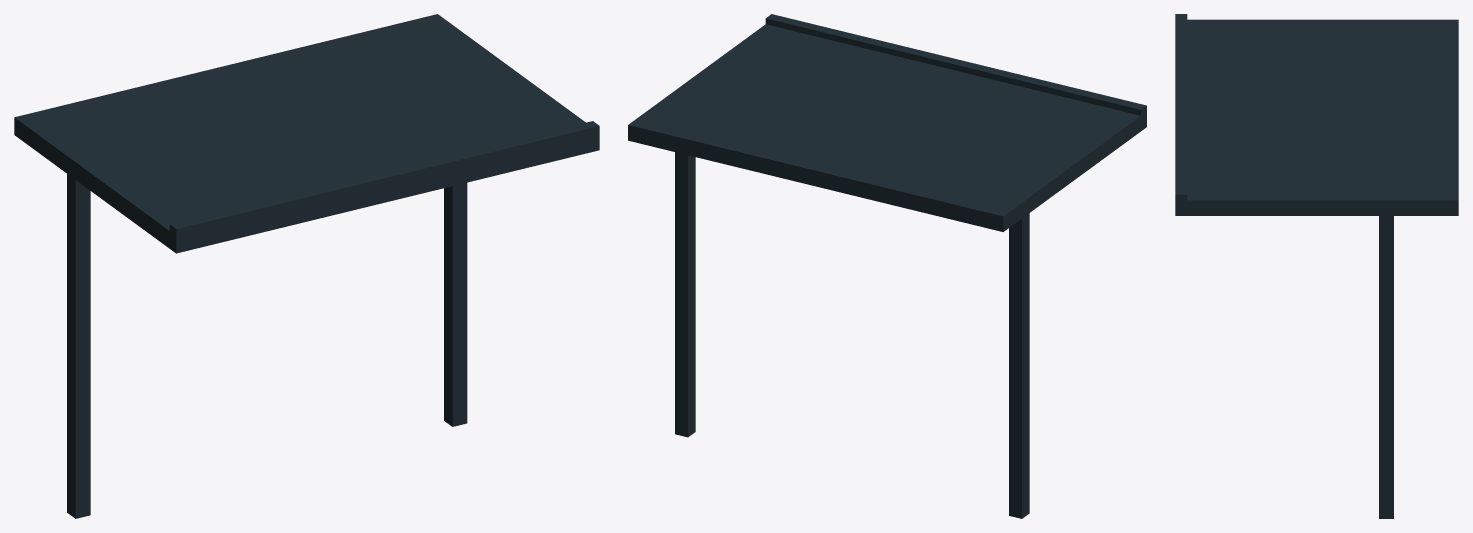
File: canopy.glb
3 views of the same model, side by side, from view 1: azimuth 30°, elevation 25°; view 2: azimuth 150°, elevation 25°; view 3: azimuth 270°, elevation 25° (orthographic). The views are drawn at different scales.
Visible parts, largest first — view 1: canopy_VISUAL; view 2: canopy_VISUAL; view 3: canopy_VISUAL.
Boxes of the visible parts, <box> form: canopy_VISUAL: <box>14,14,599,518</box>; canopy_VISUAL: <box>628,14,1146,518</box>; canopy_VISUAL: <box>1175,14,1458,518</box>.
Size of what is drawn, in the model's own units: 14.29 by 12.21 by 9.46.
1 material, 1 textured.
